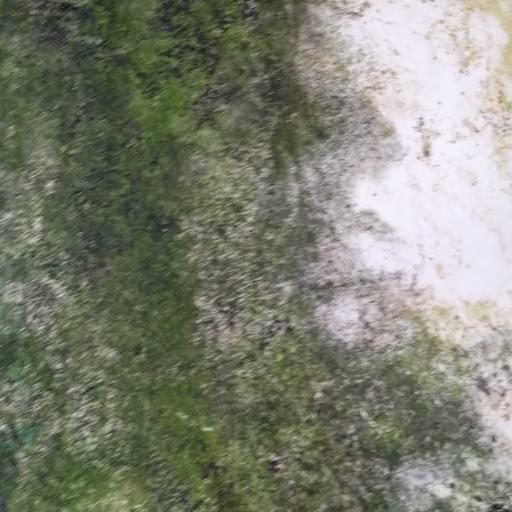algae: (0, 0, 455, 511)
